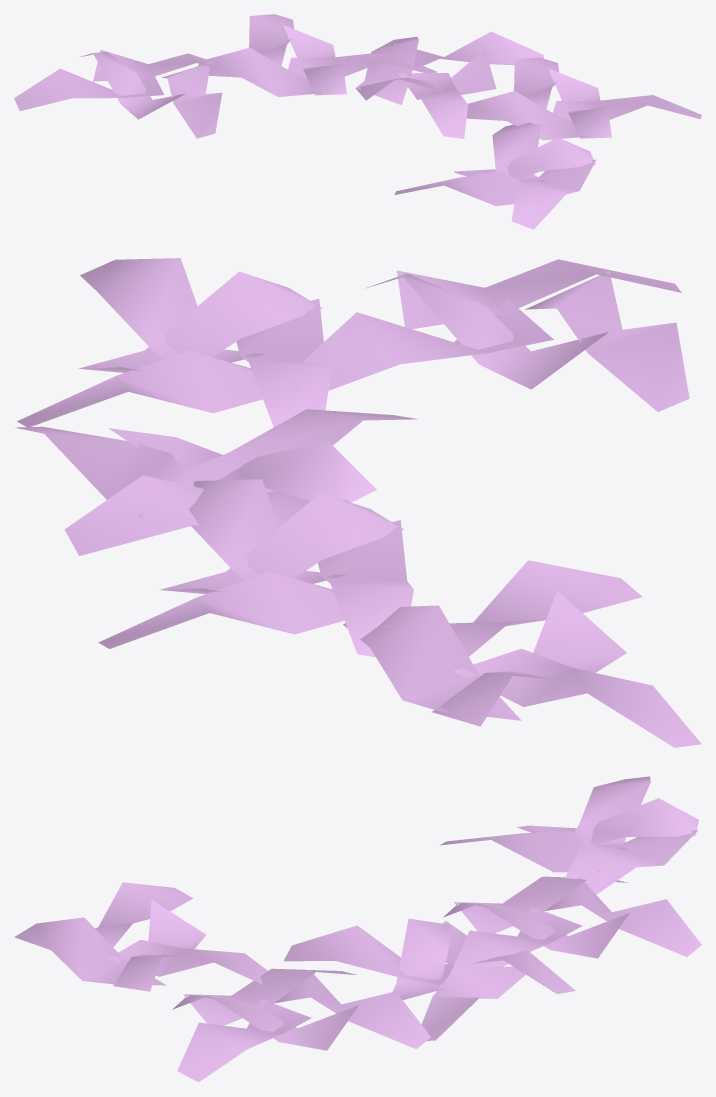
The picture shows the model from 3 angles, top to bottom: view 1: azimuth 30°, elevation 25°; view 2: azimuth 150°, elevation 25°; view 3: azimuth 270°, elevation 25°; orthographic projection. The views are drawn at different scales.
Visible parts, largest first — view 1: Object17; view 2: Object17; view 3: Object17.
Part boxes in pixels (x1=…): Object17: x1=14, y1=14, x2=701, y2=229; Object17: x1=15, y1=258, x2=701, y2=747; Object17: x1=14, y1=776, x2=701, y2=1082.
Bounding box in the file's own units: 506 × 28.92 × 485.
